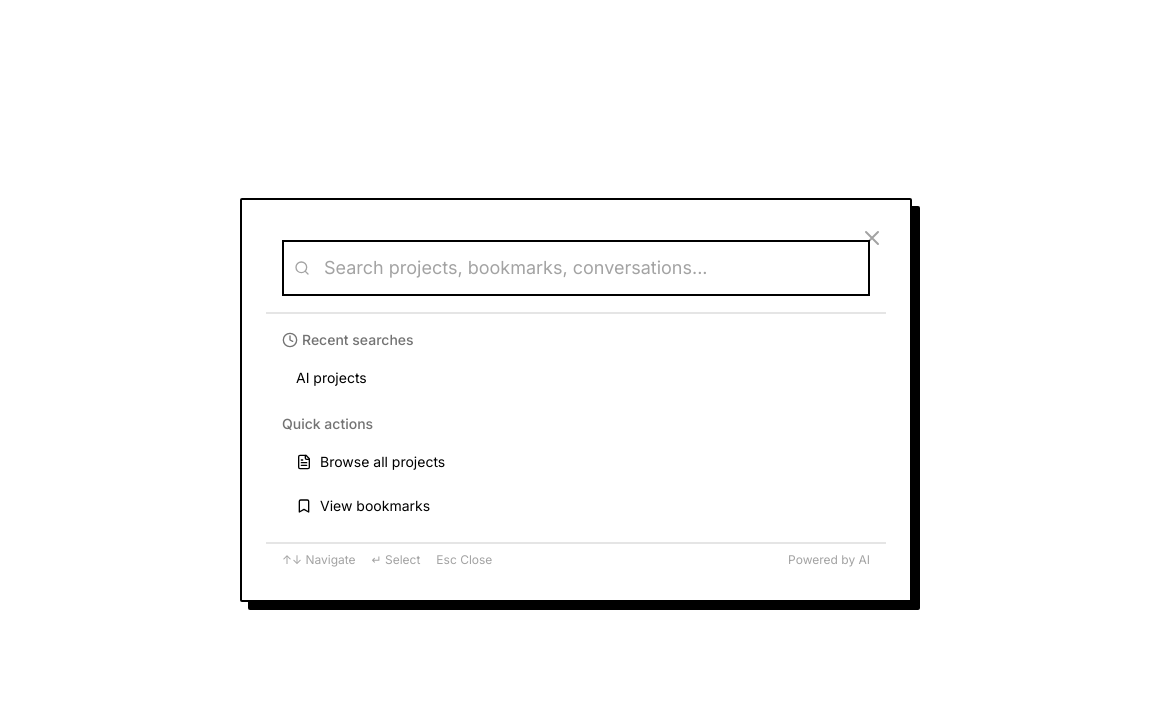
Scenario: GlobalSearchModal › handles recent search selection
Click the button "AI projects" at (331, 378), box top-left (282, 358), bottom-right (870, 398)
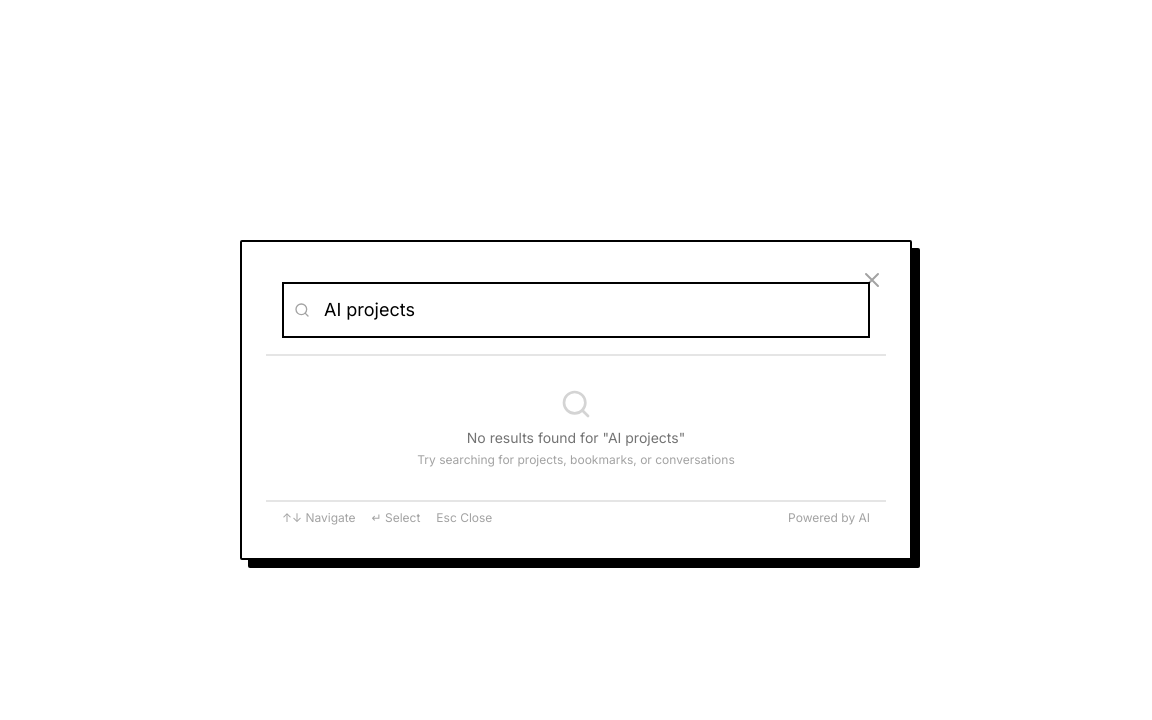
Expected: the field with placeholder "Search projects, bookmarks, conversations..." holds "AI projects", top-left (282, 282), bottom-right (870, 338)
